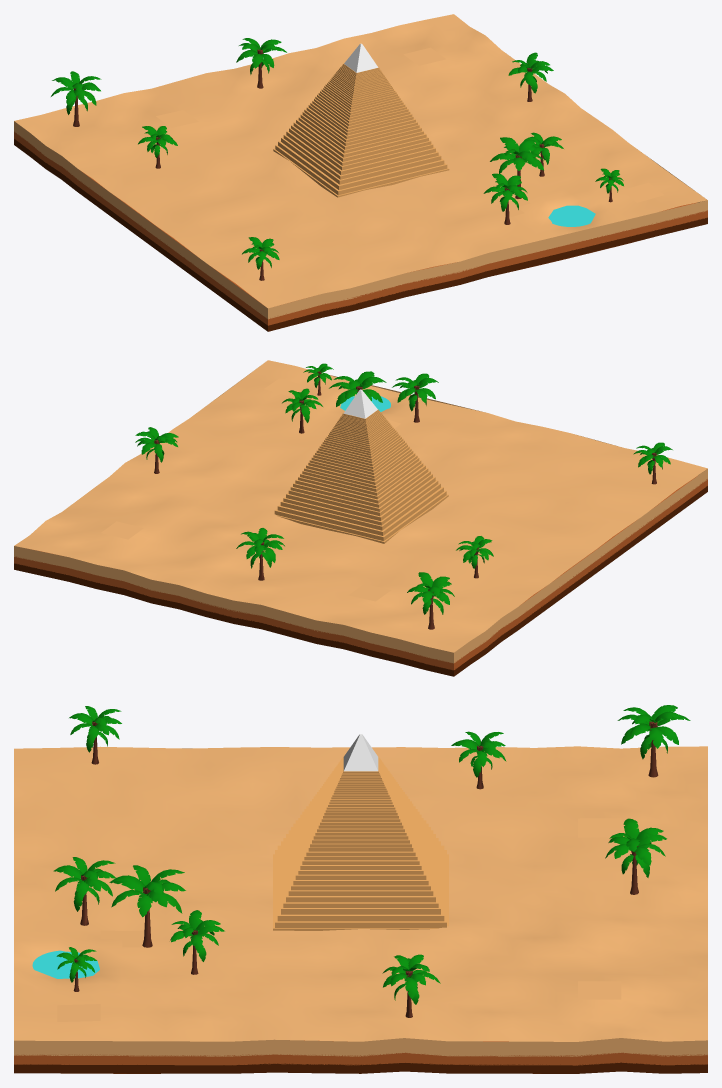
File: DESERT.fbx
The picture shows the model from 3 angles, top to bottom: view 1: azimuth 30°, elevation 25°; view 2: azimuth 150°, elevation 25°; view 3: azimuth 270°, elevation 25°; orthographic projection. The views are drawn at different scales.
Parts seen in each view (by area): view 1: Object_99, Object_45, Object_479, Object_505, Object_503, Object_494, Object_484, Object_491, Object_482, Object_507, Object_488, Object_510 (+1 smaller); view 2: Object_99, Object_45, Object_479, Object_505, Object_503, Object_484, Object_491, Object_494, Object_482, Object_500, Object_510, Object_488; view 3: Object_99, Object_45, Object_479, Object_505, Object_494, Object_503, Object_484, Object_491, Object_482, Object_500, Object_488, Object_510 (+2 smaller).
Part boxes in pixels (left/top/right/bottom): Object_99: left=14, top=14, right=707, bottom=319; Object_45: left=273, top=43, right=449, bottom=197; Object_479: left=14, top=131, right=707, bottom=325; Object_505: left=14, top=139, right=707, bottom=331; Object_503: left=51, top=71, right=101, bottom=126; Object_494: left=490, top=137, right=543, bottom=198; Object_484: left=236, top=38, right=286, bottom=88; Object_491: left=483, top=173, right=527, bottom=224; Object_482: left=508, top=52, right=553, bottom=101; Object_507: left=548, top=205, right=595, bottom=226; Object_488: left=242, top=237, right=279, bottom=280; Object_510: left=138, top=126, right=177, bottom=168; Object_99: left=14, top=360, right=707, bottom=663; Object_45: left=274, top=389, right=448, bottom=543; Object_479: left=14, top=475, right=707, bottom=670; Object_505: left=14, top=486, right=707, bottom=676; Object_503: left=407, top=572, right=454, bottom=629; Object_484: left=236, top=528, right=284, bottom=580; Object_491: left=392, top=373, right=438, bottom=422; Object_494: left=329, top=371, right=386, bottom=406; Object_482: left=135, top=427, right=178, bottom=473; Object_500: left=282, top=388, right=322, bottom=433; Object_510: left=456, top=536, right=493, bottom=578; Object_488: left=633, top=442, right=672, bottom=484; Object_99: left=14, top=746, right=707, bottom=1056; Object_45: left=273, top=734, right=448, bottom=930; Object_479: left=14, top=1040, right=707, bottom=1065; Object_505: left=14, top=1062, right=707, bottom=1073; Object_494: left=109, top=865, right=185, bottom=947; Object_503: left=617, top=705, right=690, bottom=777; Object_484: left=605, top=818, right=666, bottom=894; Object_491: left=53, top=857, right=115, bottom=925; Object_482: left=382, top=954, right=440, bottom=1017; Object_500: left=170, top=910, right=224, bottom=974; Object_488: left=69, top=706, right=121, bottom=764; Object_510: left=451, top=731, right=506, bottom=789.
Size of the model in its own units: 26746 by 8198 by 26746.
